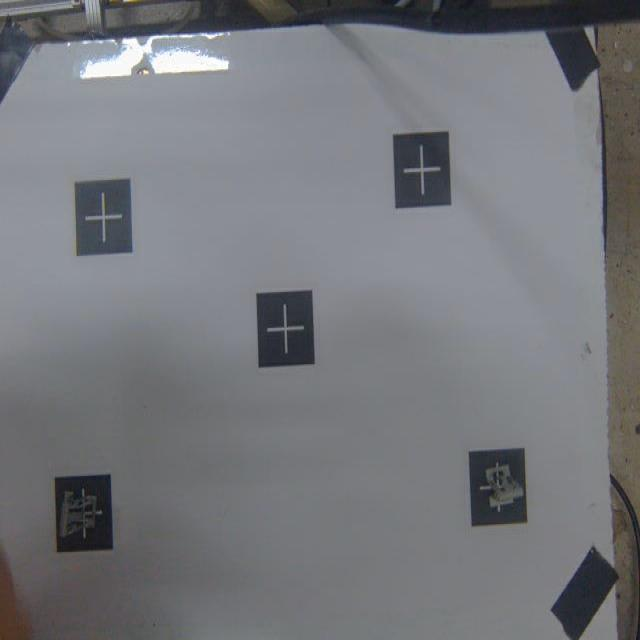pick5: (470, 450, 534, 527)
